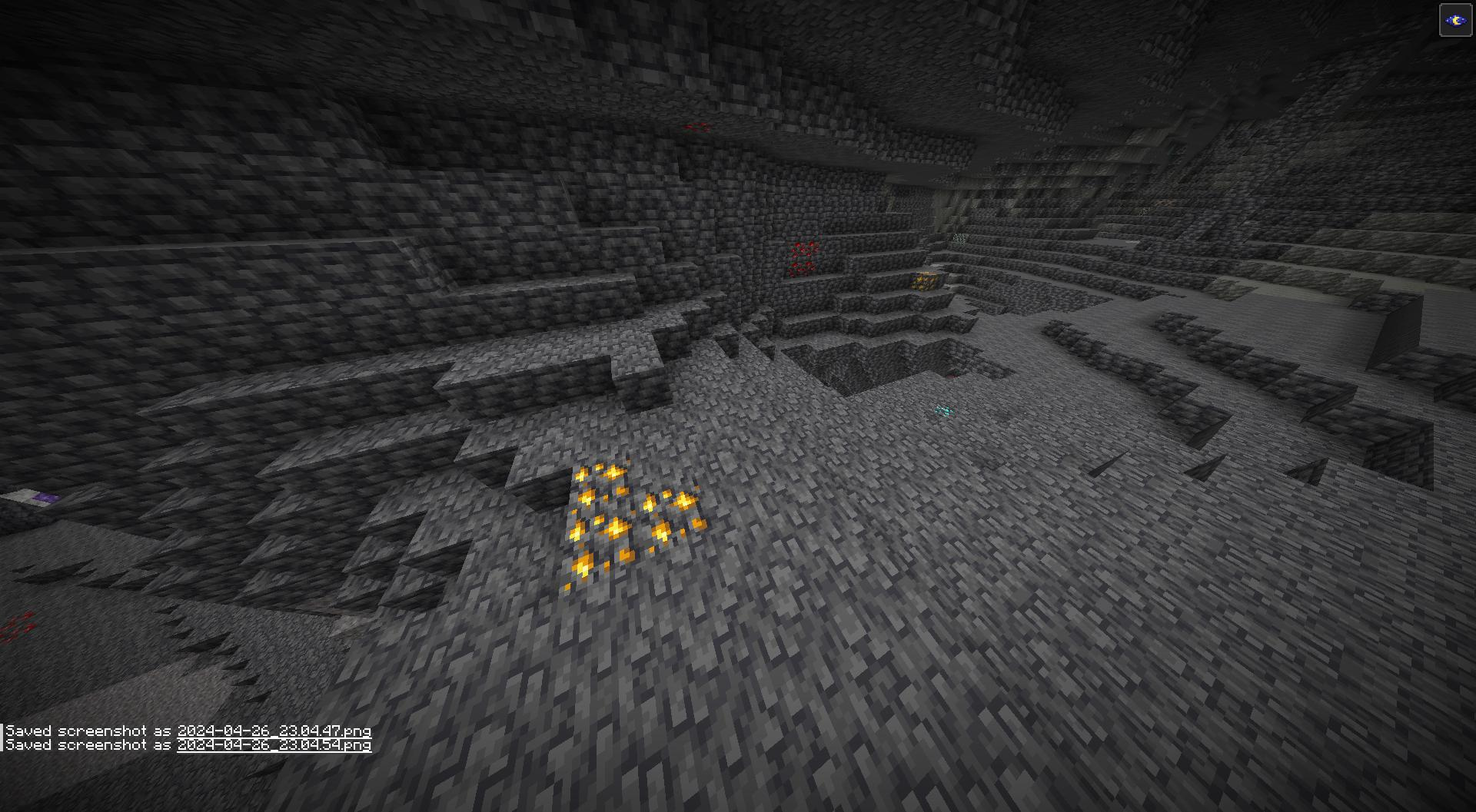diamond ore: (928, 398, 962, 425)
gold ore: (566, 503, 633, 592), (636, 483, 709, 551), (563, 454, 634, 504), (909, 267, 939, 292)
redstone ore: (0, 605, 36, 645), (786, 239, 820, 277), (681, 116, 716, 137)
